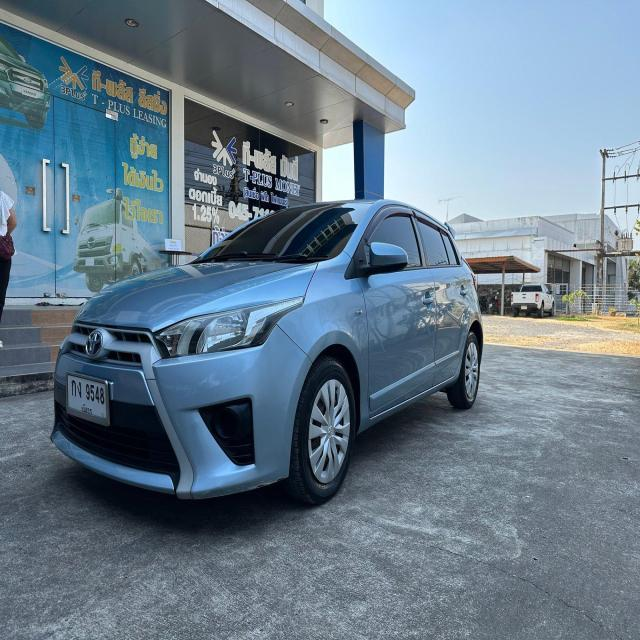Hatchback: (51, 199, 484, 504)
